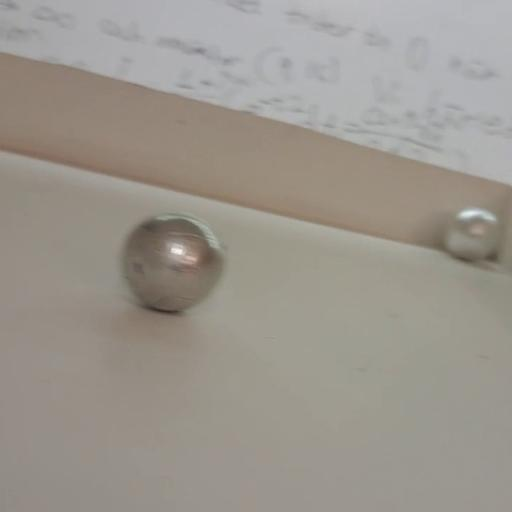alive: (119, 210, 224, 314), (442, 205, 502, 263)
